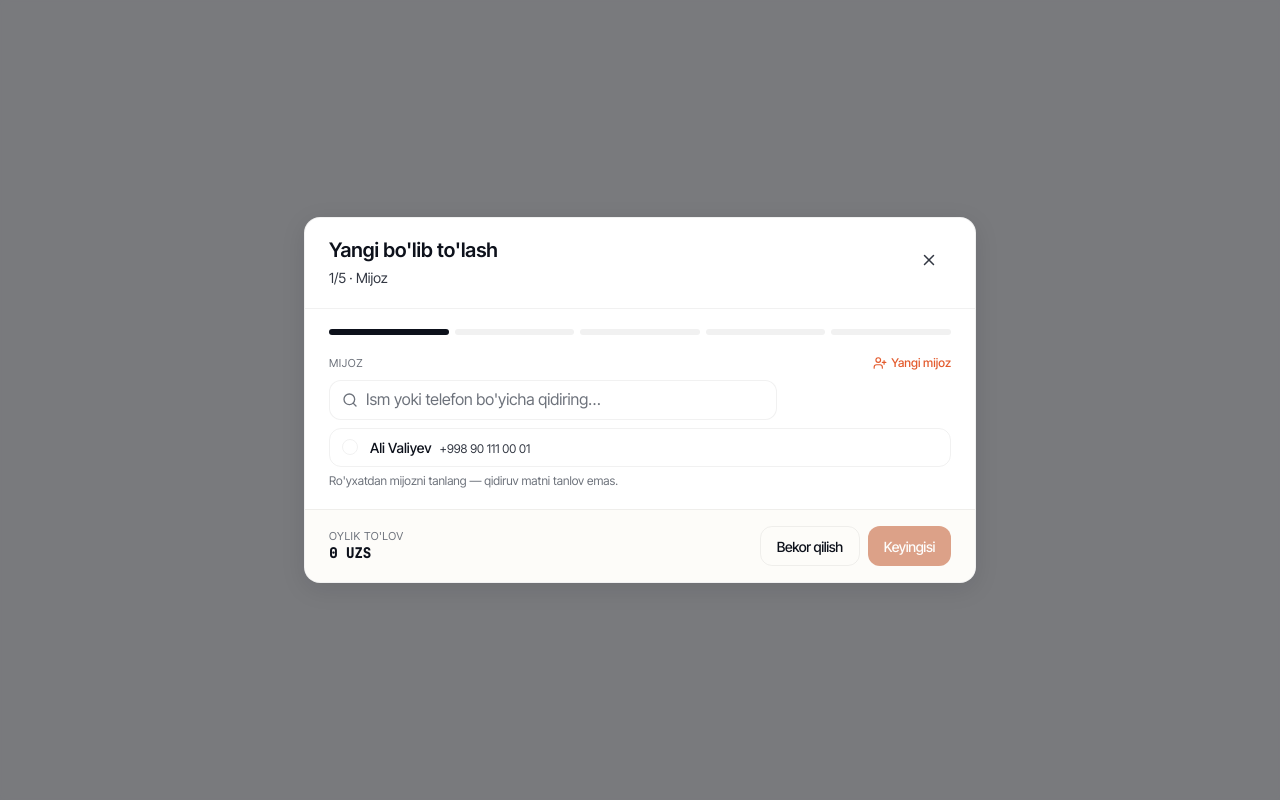
Test: the new-contract item row can pull from the global catalog › offers a "pick from catalog" affordance in the open item editor
The image size is (1280, 800).
Click the text "Ali Valiyev". click: x=401, y=447
box: [370,438,432,456]
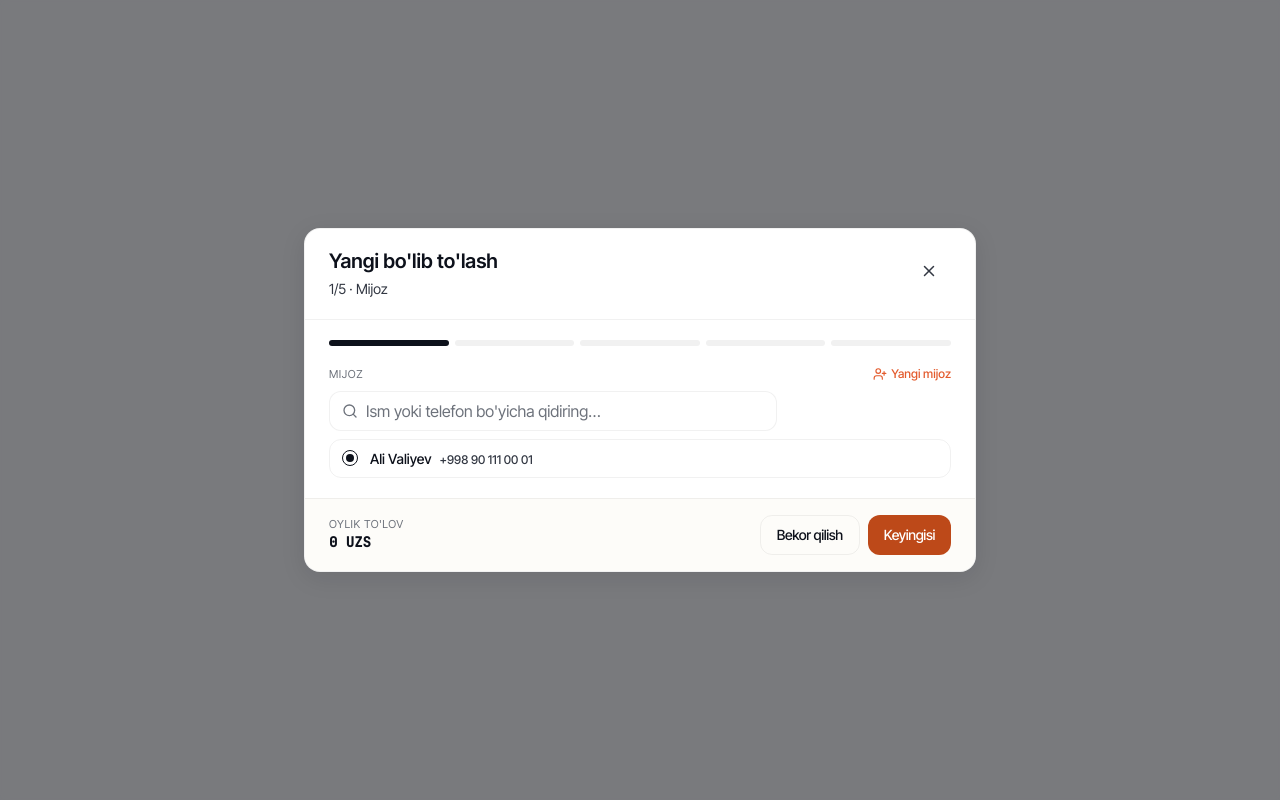
Click the button "Keyingisi". click: x=909, y=535
box: [868,515,951,555]
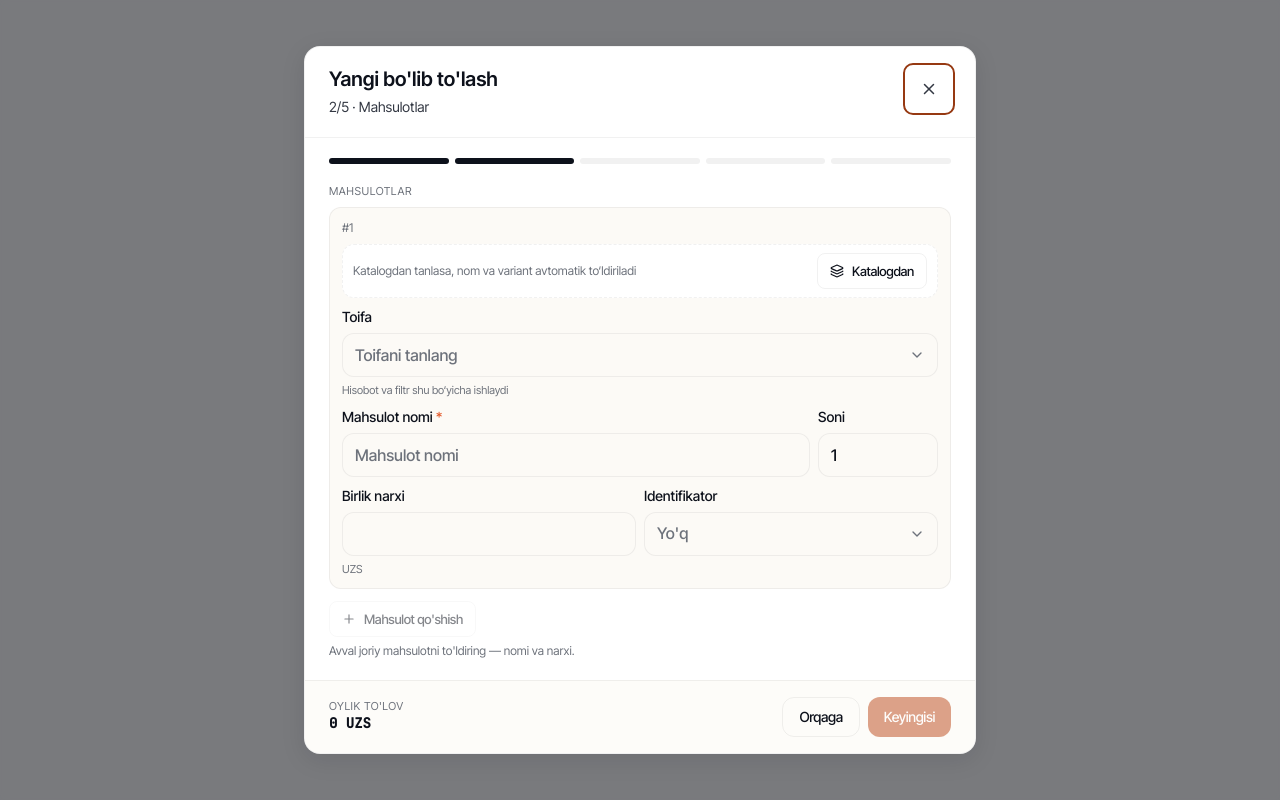
Check: the button "Katalogdan" is shown, box [817,253,927,289]
